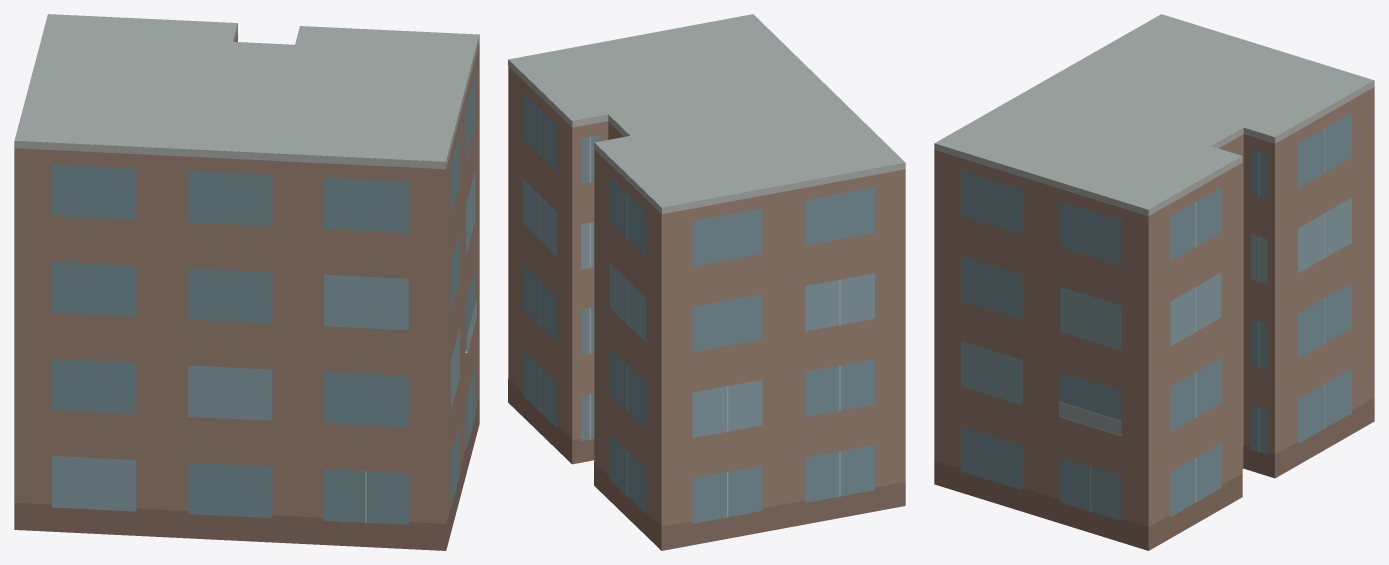
Rendered from survey-upis-32656886.glb.
3 renders of one model, left to right at view 1: azimuth 30°, elevation 25°; view 2: azimuth 150°, elevation 25°; view 3: azimuth 270°, elevation 25°, orthographic. The views are drawn at different scales.
Visible parts, largest first — view 1: survey-upis-32656886.tmp; view 2: survey-upis-32656886.tmp; view 3: survey-upis-32656886.tmp.
Boxes of the visible parts, x1,y1,x2,y2 form: survey-upis-32656886.tmp: (14, 14, 479, 550); survey-upis-32656886.tmp: (508, 14, 905, 550); survey-upis-32656886.tmp: (934, 14, 1374, 550).
Bounding box in the file's own units: 15.77 × 12.8 × 14.98.
